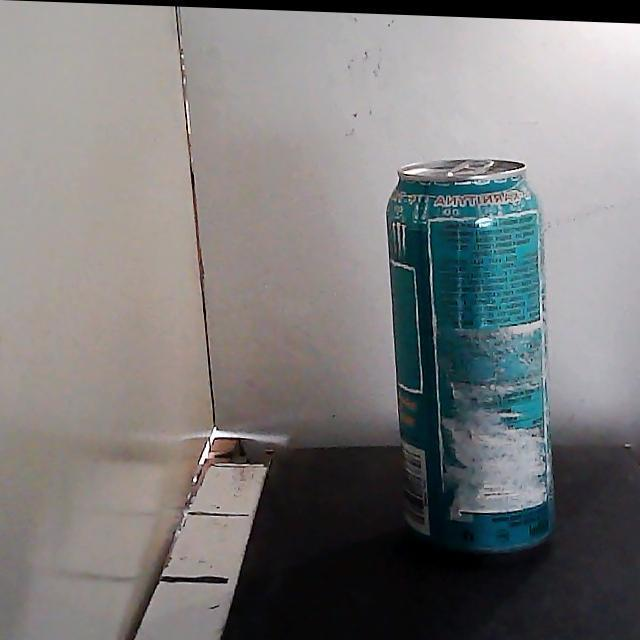metal: (388, 158, 554, 552)
